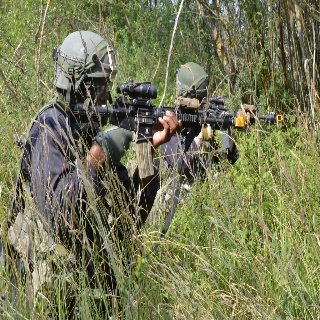rifle: (68, 80, 286, 147)
